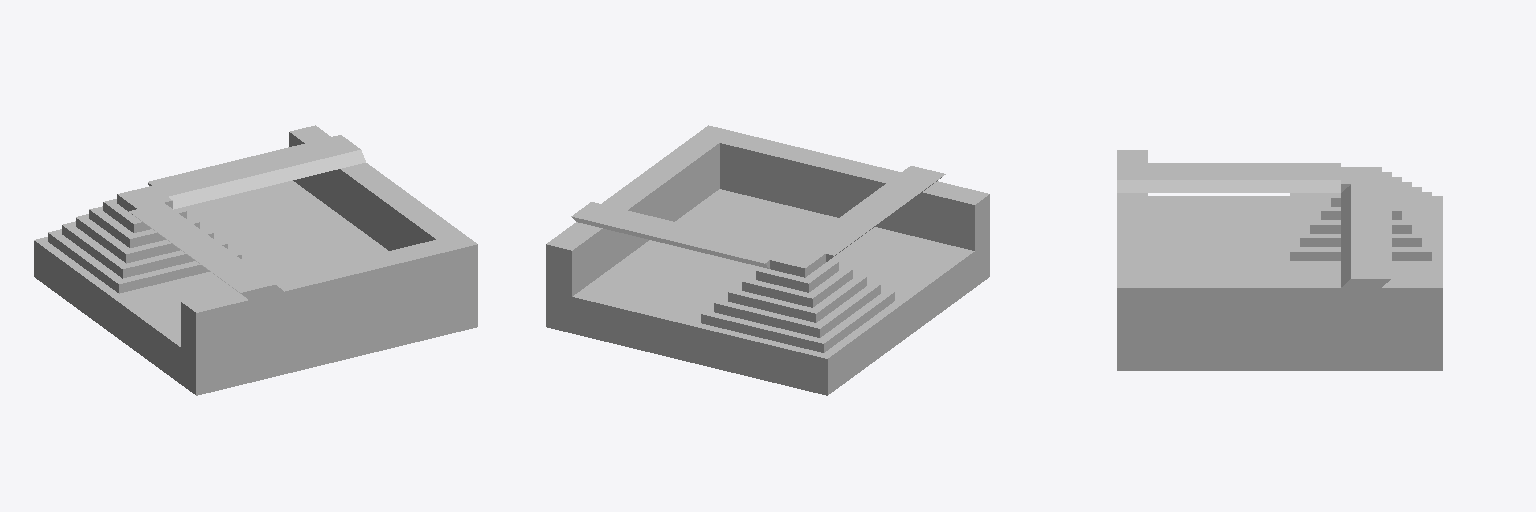
File: trench.obj
The picture shows the model from 3 angles: view 1: azimuth 30°, elevation 25°; view 2: azimuth 150°, elevation 25°; view 3: azimuth 270°, elevation 25°; orthographic projection.
Parts seen in each view (by area): view 1: entity0_brush0, entity0_brush7, entity0_brush8, entity0_brush9, entity0_brush10, entity0_brush1, entity0_brush2, entity0_brush3, entity0_brush4, entity0_brush6, entity0_brush5; view 2: entity0_brush0, entity0_brush7, entity0_brush8, entity0_brush9, entity0_brush10, entity0_brush1, entity0_brush2, entity0_brush3, entity0_brush4, entity0_brush5, entity0_brush6; view 3: entity0_brush0, entity0_brush8, entity0_brush10, entity0_brush9, entity0_brush7, entity0_brush1, entity0_brush2, entity0_brush3, entity0_brush4, entity0_brush6.
Boxes of the visible parts, box(x1,y1,x2,y2) form: entity0_brush0: box(34, 180, 477, 395); entity0_brush7: box(181, 233, 477, 358); entity0_brush8: box(289, 125, 461, 250); entity0_brush9: box(148, 135, 365, 209); entity0_brush10: box(129, 203, 283, 299); entity0_brush1: box(48, 229, 241, 293); entity0_brush2: box(62, 221, 227, 278); entity0_brush3: box(76, 214, 213, 263); entity0_brush4: box(89, 206, 199, 247); entity0_brush6: box(117, 186, 172, 214); entity0_brush5: box(103, 199, 186, 232); entity0_brush0: box(546, 189, 989, 395); entity0_brush7: box(693, 125, 989, 250); entity0_brush8: box(546, 137, 719, 296); entity0_brush9: box(571, 202, 783, 268); entity0_brush10: box(800, 166, 945, 261); entity0_brush1: box(701, 289, 894, 352); entity0_brush2: box(714, 281, 880, 337); entity0_brush3: box(728, 273, 866, 322); entity0_brush4: box(742, 266, 852, 307); entity0_brush5: box(756, 259, 838, 292); entity0_brush6: box(770, 245, 825, 277); entity0_brush0: box(1117, 196, 1442, 370); entity0_brush8: box(1148, 275, 1442, 333); entity0_brush10: box(1117, 163, 1340, 192); entity0_brush9: box(1341, 184, 1391, 287); entity0_brush7: box(1117, 150, 1147, 333); entity0_brush1: box(1290, 192, 1431, 260); entity0_brush2: box(1300, 187, 1421, 246); entity0_brush3: box(1310, 182, 1411, 233); entity0_brush4: box(1321, 177, 1401, 219); entity0_brush6: box(1341, 167, 1381, 192).
Bounding box in the file's own units: 64 × 20 × 64.